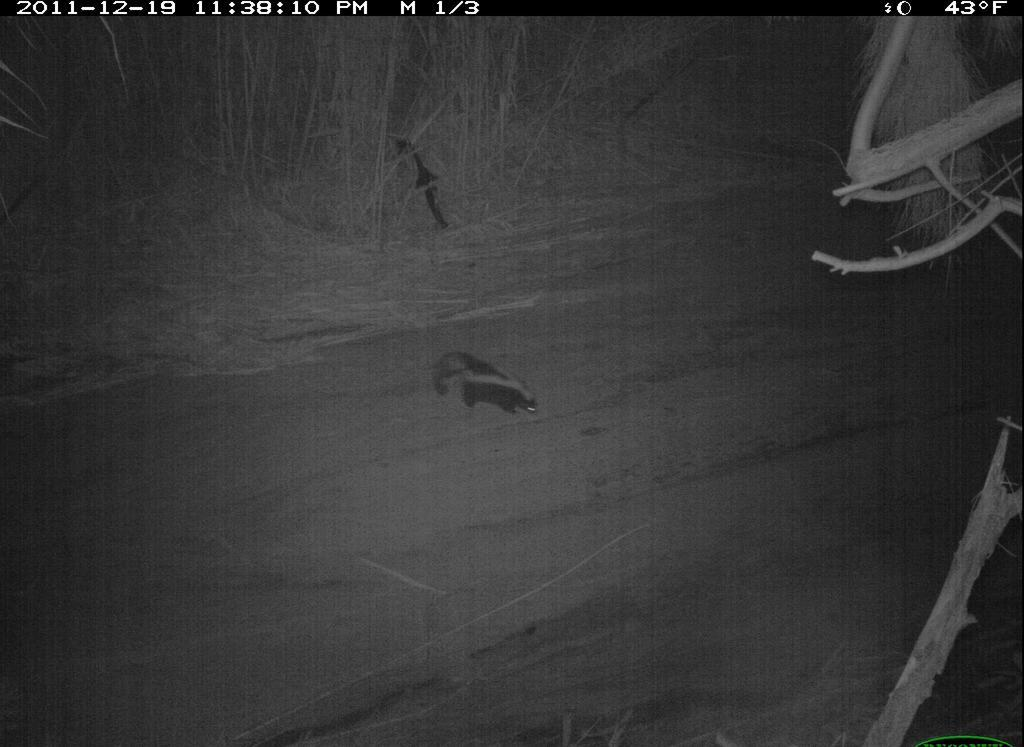skunk: (419, 344, 547, 428)
